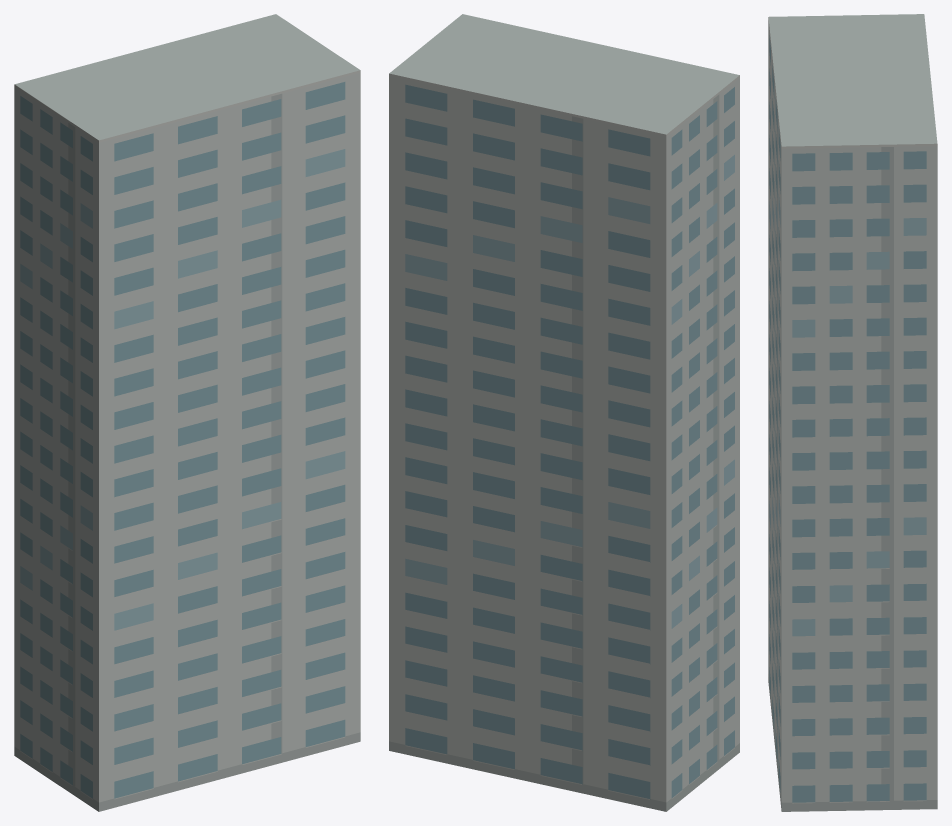
File: residential-137b61b4-93a6-4e17-8b85-319a3a163a3d.glb
3 renders of one model, left to right at view 1: azimuth 30°, elevation 25°; view 2: azimuth 150°, elevation 25°; view 3: azimuth 270°, elevation 25°, orthographic.
Visible parts, largest first — view 1: residential-137b61b4-93a6-4e17-8b85-319a3a163a3d.tmp; view 2: residential-137b61b4-93a6-4e17-8b85-319a3a163a3d.tmp; view 3: residential-137b61b4-93a6-4e17-8b85-319a3a163a3d.tmp.
Part boxes in pixels (x1,y1,x2,y2): residential-137b61b4-93a6-4e17-8b85-319a3a163a3d.tmp: (14,14,360,811); residential-137b61b4-93a6-4e17-8b85-319a3a163a3d.tmp: (389,14,739,811); residential-137b61b4-93a6-4e17-8b85-319a3a163a3d.tmp: (768,14,937,811).
Bounding box in the file's own units: 29.49 × 69 × 15.9.
